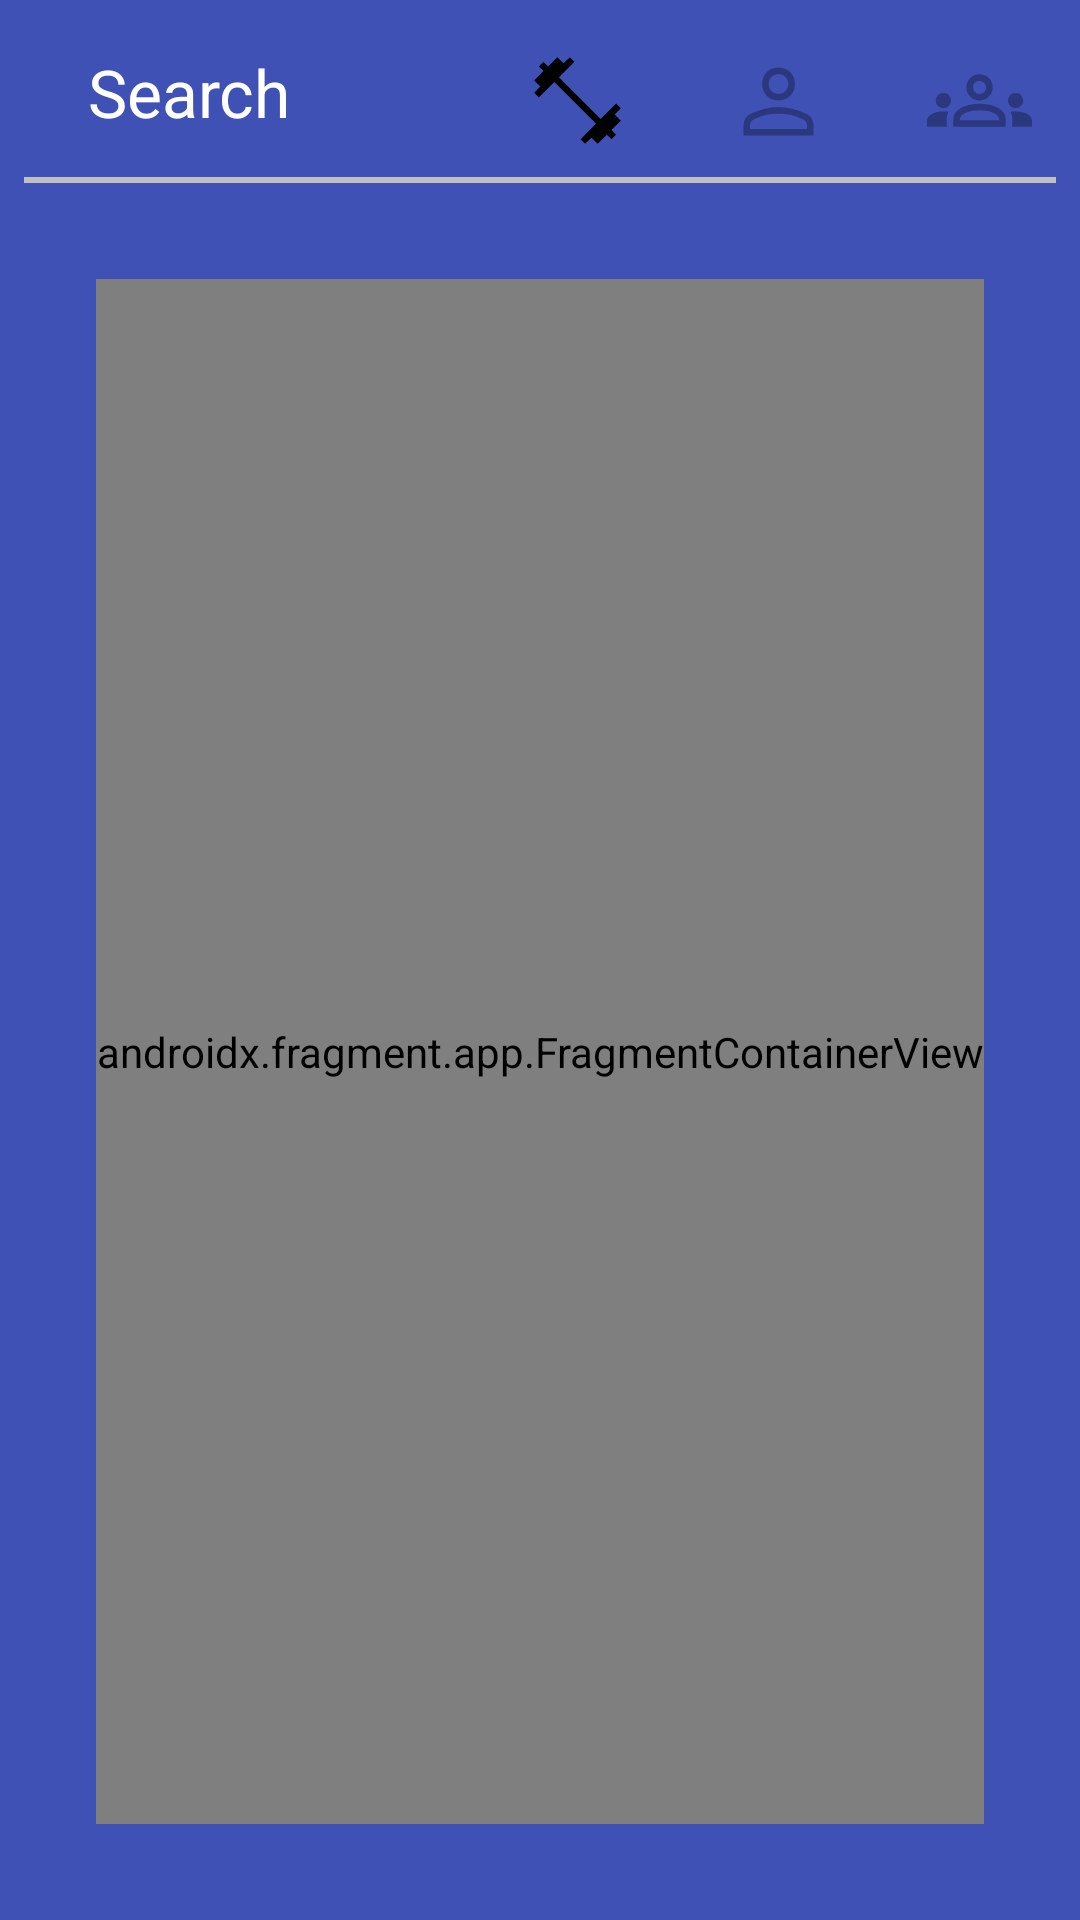

Locate icon controls on the screen. Image size 1080 x 1920, boxes as {"left": x1, "top": y1, "right": x2, "bottom": y2}.
Search for Friends: {"left": 743, "top": 67, "right": 814, "bottom": 136}
Search for Groups: {"left": 927, "top": 74, "right": 1032, "bottom": 127}
Search for Workouts: {"left": 534, "top": 57, "right": 621, "bottom": 144}
